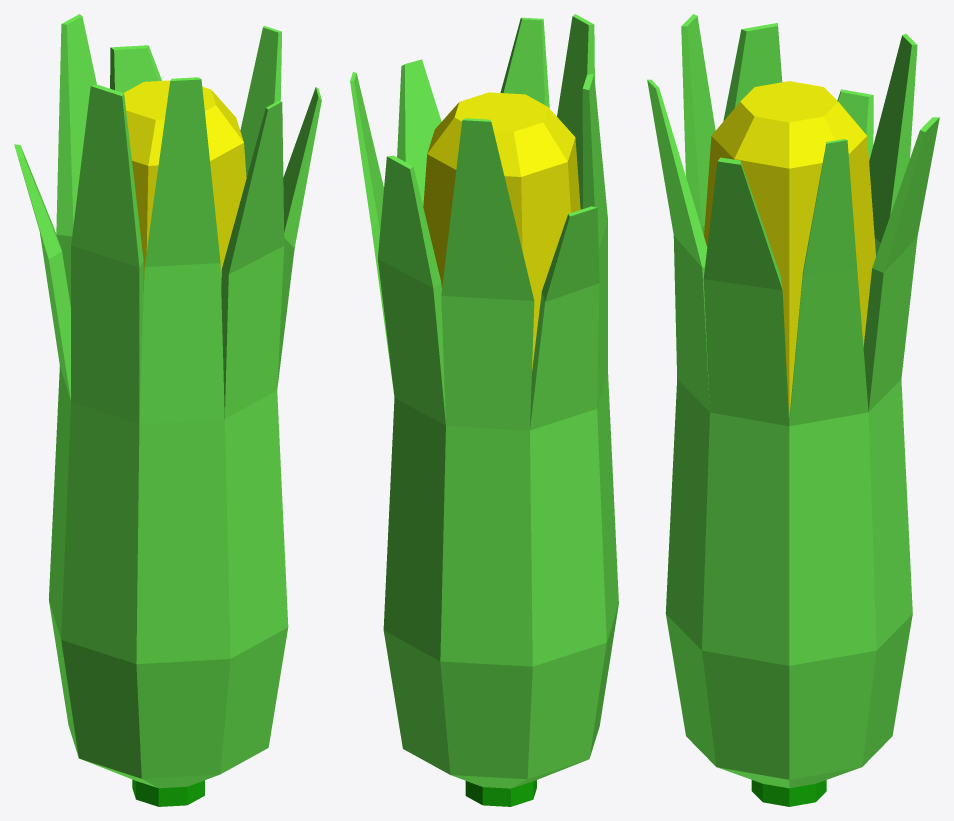
File: corn01.gltf
3 renders of one model, left to right at view 1: azimuth 30°, elevation 25°; view 2: azimuth 150°, elevation 25°; view 3: azimuth 270°, elevation 25°, orthographic.
Visible parts, largest first — view 1: Cylinder; view 2: Cylinder; view 3: Cylinder.
Part boxes in pixels (x1=…): Cylinder: x1=14, y1=14, x2=321, y2=806; Cylinder: x1=350, y1=14, x2=618, y2=806; Cylinder: x1=647, y1=14, x2=939, y2=806.
Size of the model in its own units: 0.087 by 0.2457 by 0.0864.
1 material, 1 textured.
